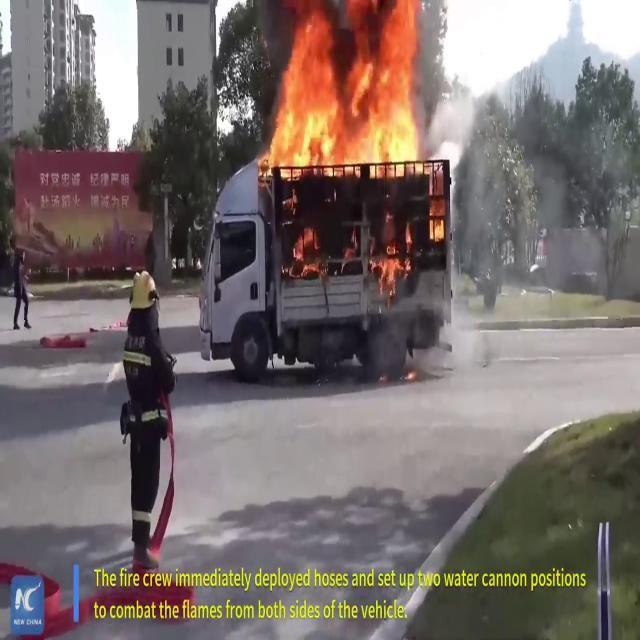Fire: (256, 3, 436, 182)
